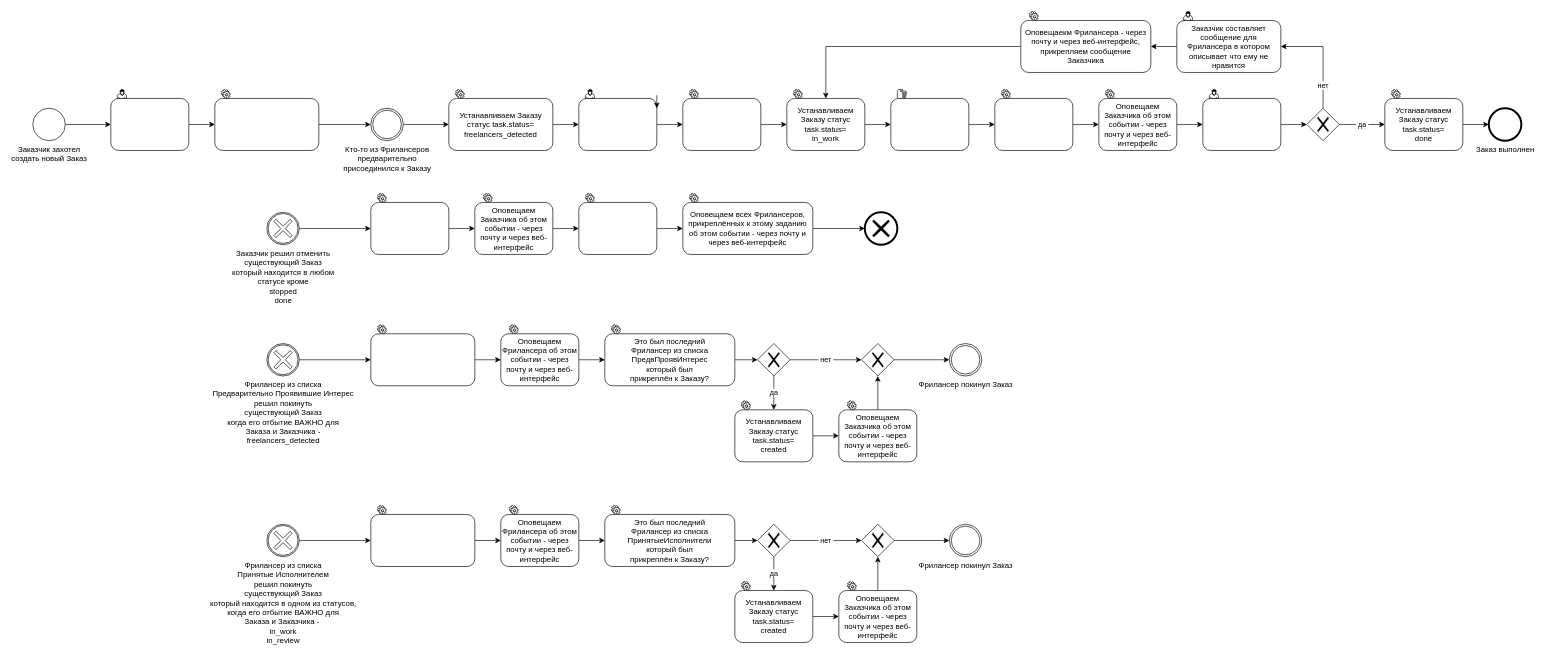
Image size: 1545x657. Some labels were removed from this diagram. Here are the shapes that lost their labels. From the top down, the centre of each, then its label:
(x=149, y=124): Заказчик заполняет Форму Создания Заказа
(x=266, y=124): Записываем Заказ в БД, устанавливаем его статус task.status= created
(x=617, y=124): Заказчик принимает решение кого из Фрилансеров он выбрал
(x=721, y=124): Отцеплаем всех не выбранных Фрилансеров от Заказа
(x=929, y=124): Фрилансер выполняет Заказ до уровня на котором он считает что Заказ выпопленен
(x=1033, y=124): Устанавливаем Заказу статус task.status= in_review
(x=1241, y=124): Заказчик оценивает - он удовлетворён?
(x=409, y=228): Устанавливаем Заказу статус task.status= stopped
(x=617, y=228): Отцепляем в БД от Задания всех прикреплённых к нему Фрилансеров
(x=880, y=228): Заказ остановлен (отменён)
(x=422, y=359): Отцепляем в БД от Задания этого Фрилансера из списка ПредвПроявИнтерес
(x=422, y=540): Отцепляем в БД от Задания этого Фрилансера из списка ПринятыеИсполнители
